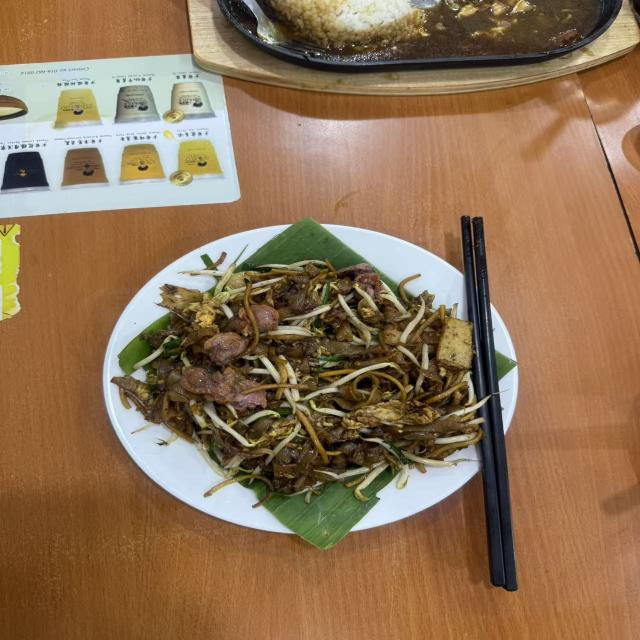Char Kway Teow: (148, 237, 526, 506)
